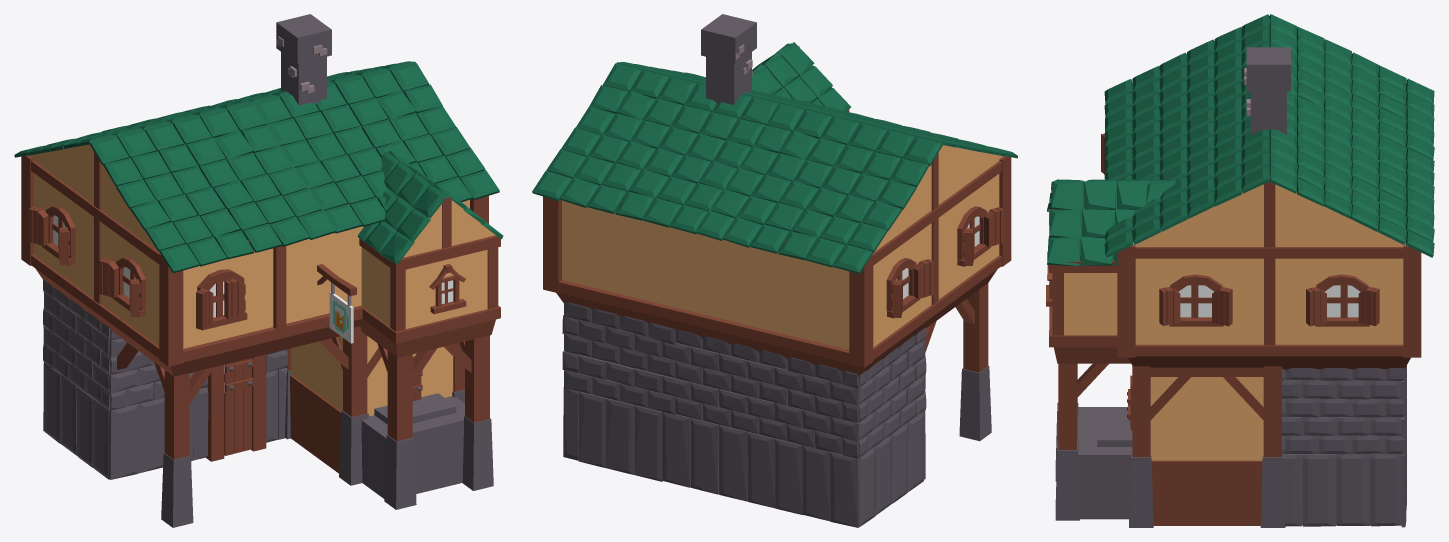
Rendered from Pub.fbx.
3 renders of one model, left to right at view 1: azimuth 30°, elevation 25°; view 2: azimuth 150°, elevation 25°; view 3: azimuth 270°, elevation 25°, orthographic. The views are drawn at different scales.
Parts seen in each view (by area): view 1: Pub; view 2: Pub; view 3: Pub.
Part boxes in pixels (<box>): Pub: <box>14,14,503,527</box>; Pub: <box>532,14,1017,527</box>; Pub: <box>1046,14,1434,527</box>.
Bounding box in the file's own units: 488 × 528 × 586.
